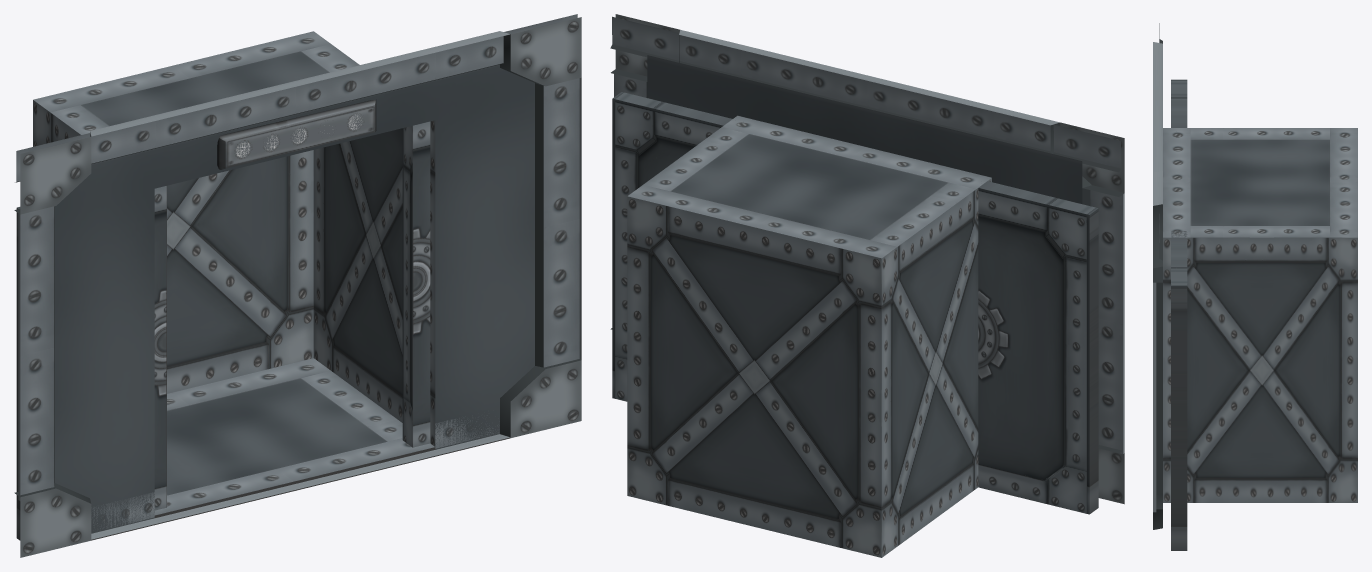
The model's file is elevator_new.fbx.
3 renders of one model, left to right at view 1: azimuth 30°, elevation 25°; view 2: azimuth 150°, elevation 25°; view 3: azimuth 270°, elevation 25°, orthographic. The views are drawn at different scales.
Visible parts, largest first — view 1: elevator, frame, decal_base, decal_base1, ground, corners, flashing, right_door, left_door, light_panel, decals (×2), light_panel_frame; view 2: elevator, left_door, frame, flashing, right_door, corners; view 3: elevator, right_door, frame, corners, left_door.
Part boxes in pixels (x1,y1,x2,y2): elevator: [33, 31, 435, 517]; frame: [15, 14, 581, 540]; decal_base: [435, 96, 534, 449]; decal_base1: [55, 189, 154, 533]; ground: [154, 358, 434, 515]; corners: [14, 17, 581, 557]; flashing: [55, 64, 534, 212]; right_door: [402, 121, 430, 447]; left_door: [16, 186, 166, 540]; light_panel: [225, 105, 374, 168]; decals (×2): [91, 415, 498, 528]; light_panel_frame: [217, 99, 376, 169]; elevator: [627, 115, 991, 557]; left_door: [978, 181, 1098, 514]; frame: [610, 16, 1124, 454]; flashing: [647, 55, 1082, 199]; right_door: [612, 92, 732, 401]; corners: [610, 14, 1124, 504]; elevator: [1163, 128, 1357, 502]; right_door: [1171, 231, 1187, 550]; frame: [1153, 23, 1162, 512]; corners: [1153, 204, 1162, 529]; left_door: [1171, 79, 1187, 127].
Size of what is drawn, in the model's own units: 16 by 11 by 6.3.
10 materials, 9 textured.
